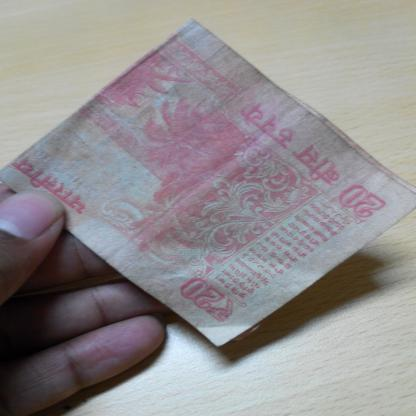Old20Back: (22, 27, 394, 315)
